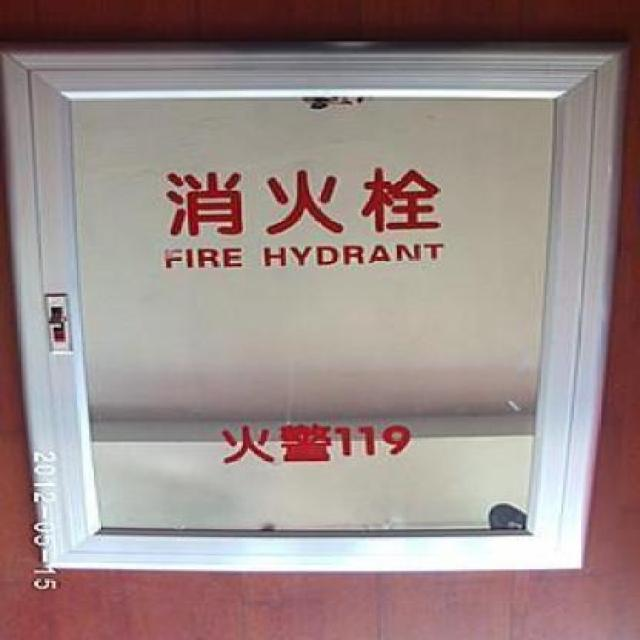firehydrant: (0, 39, 631, 578)
